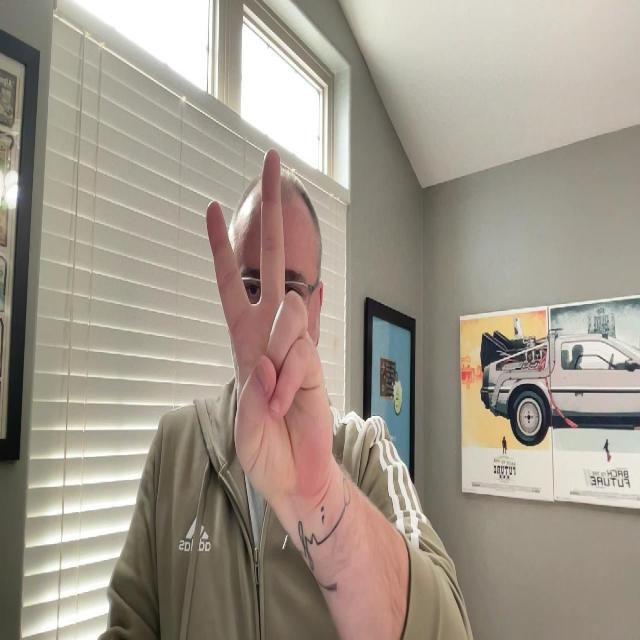face: (230, 202, 317, 380)
